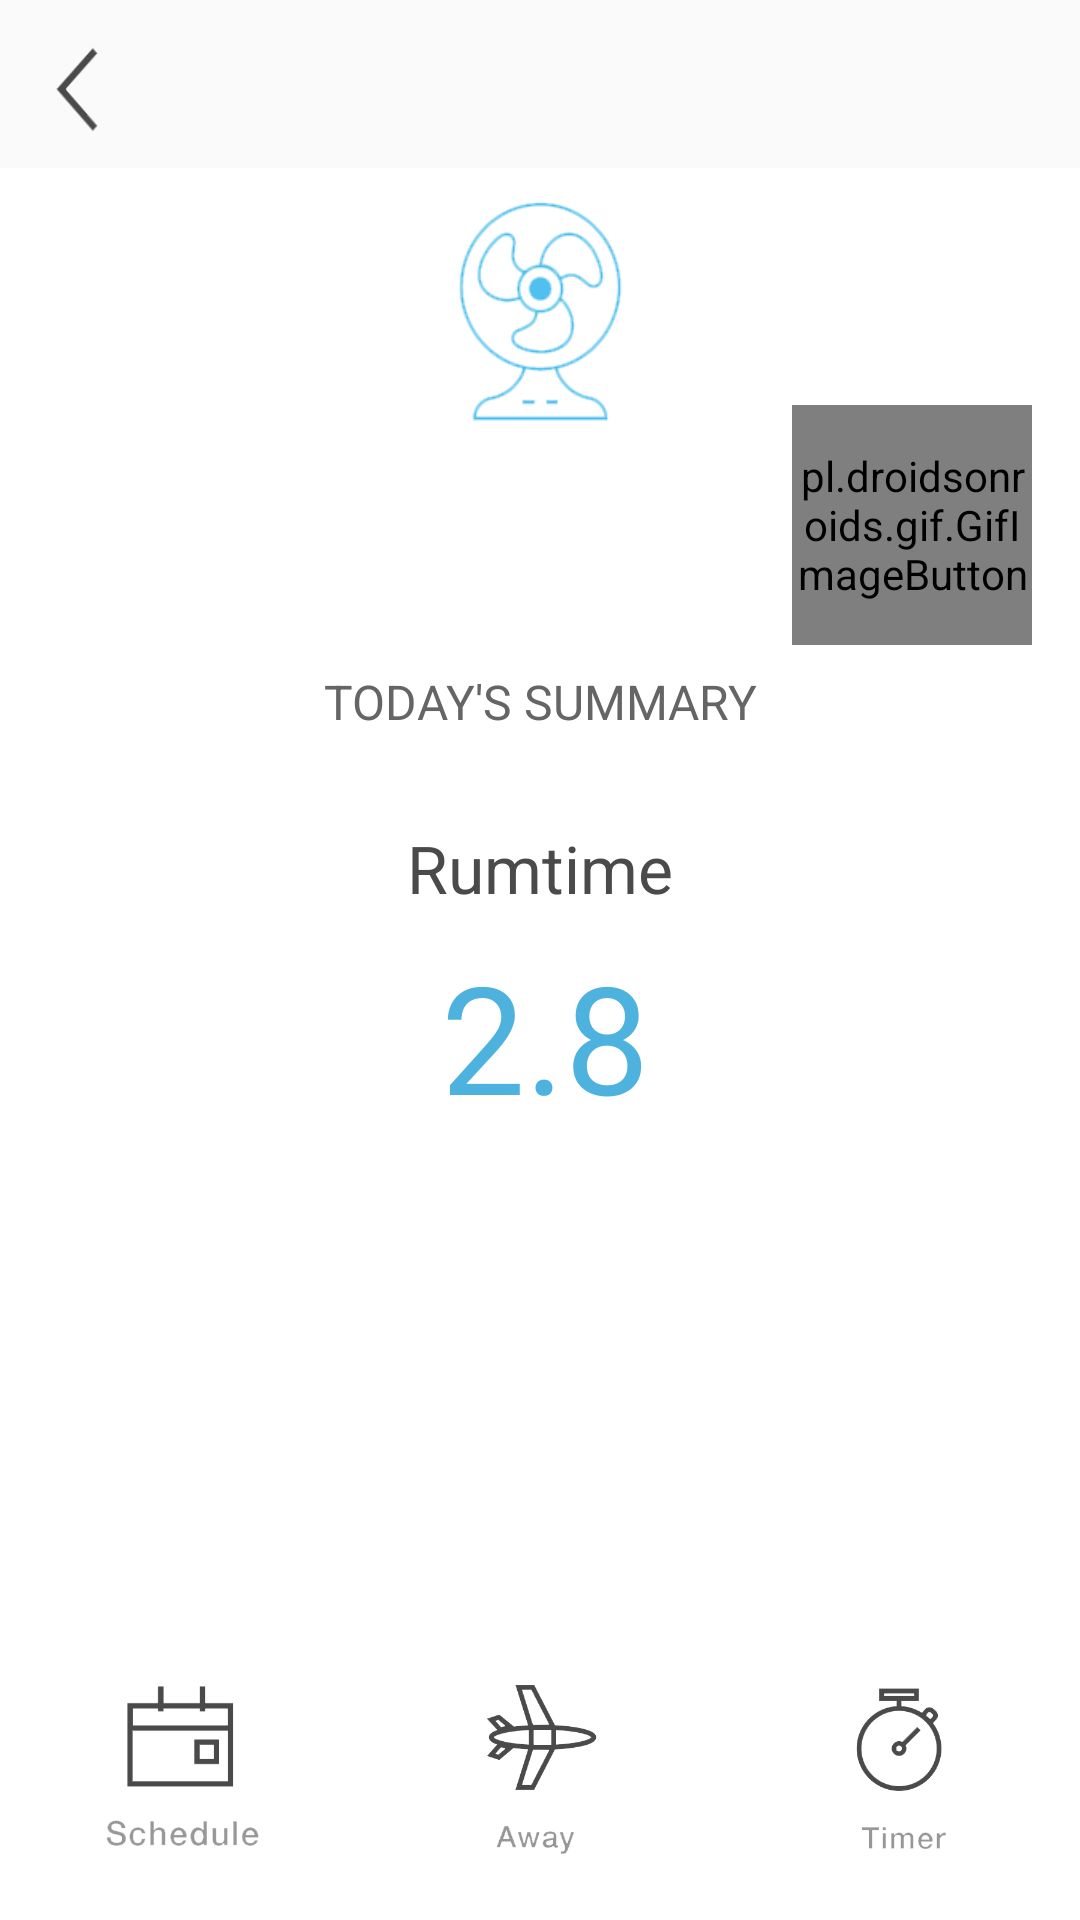

Where icons sit on this 1080 × 1920 app screen, as (x1, y1, x2, y2):
back: (56, 48, 97, 131)
fan: (459, 202, 622, 421)
